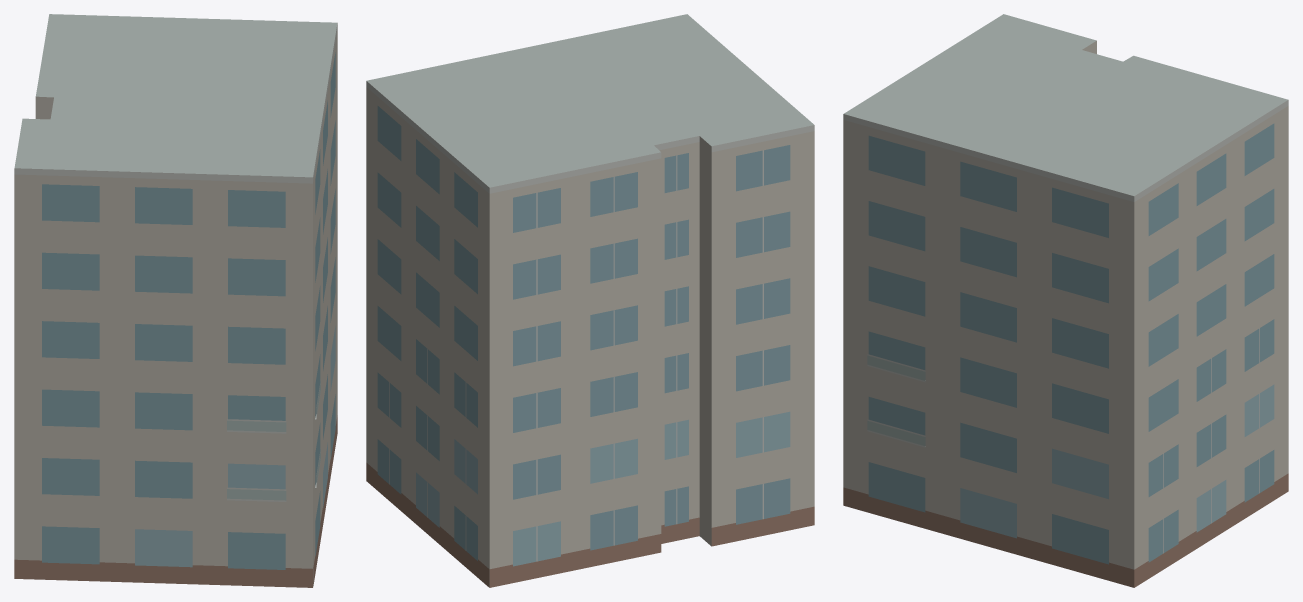
The model's file is survey-upis-32780071.glb.
The picture shows the model from 3 angles, left to right: view 1: azimuth 30°, elevation 25°; view 2: azimuth 150°, elevation 25°; view 3: azimuth 270°, elevation 25°; orthographic projection. The views are drawn at different scales.
Visible parts, largest first — view 1: survey-upis-32780071.tmp; view 2: survey-upis-32780071.tmp; view 3: survey-upis-32780071.tmp.
Boxes of the visible parts, bbox=[...] form: survey-upis-32780071.tmp: bbox=[14, 14, 337, 587]; survey-upis-32780071.tmp: bbox=[366, 14, 814, 587]; survey-upis-32780071.tmp: bbox=[843, 14, 1288, 587].
Bounding box in the file's own units: 16.08 × 16.1 × 16.59.
